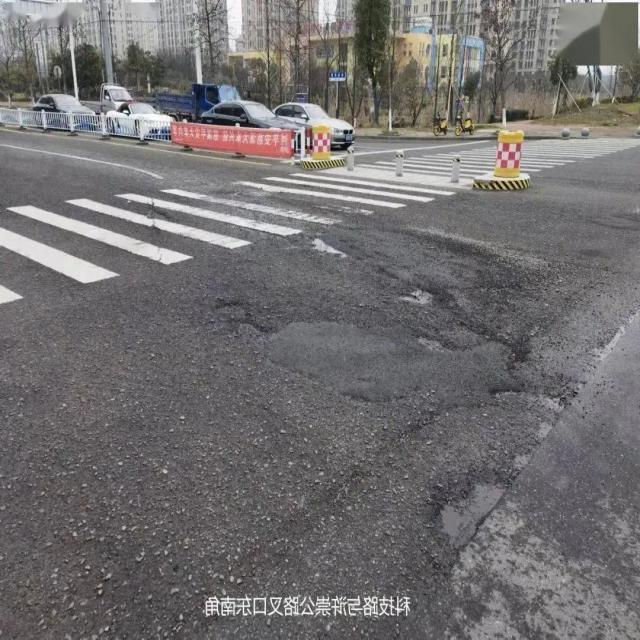pothole: (214, 299, 532, 407), (430, 472, 519, 560), (302, 232, 349, 264)
